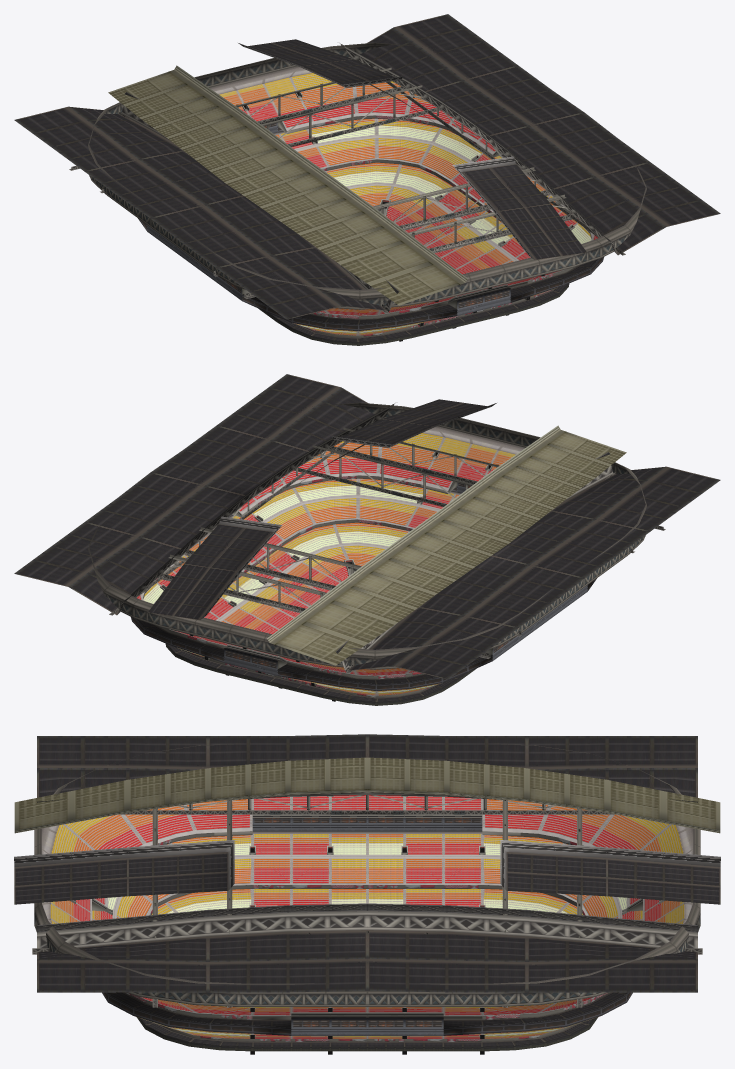
File: st_071_stadium.fbx
The picture shows the model from 3 angles, top to bottom: view 1: azimuth 30°, elevation 25°; view 2: azimuth 150°, elevation 25°; view 3: azimuth 270°, elevation 25°; orthographic projection. The views are drawn at different scales.
Visible parts, largest first — view 1: st_071_Stadium; view 2: st_071_Stadium; view 3: st_071_Stadium.
Part boxes in pixels (left/top/right/bottom): st_071_Stadium: left=14, top=14, right=720, bottom=345; st_071_Stadium: left=14, top=374, right=720, bottom=705; st_071_Stadium: left=14, top=734, right=720, bottom=1054.
Bounding box in the file's own units: 277 × 88.29 × 323.
